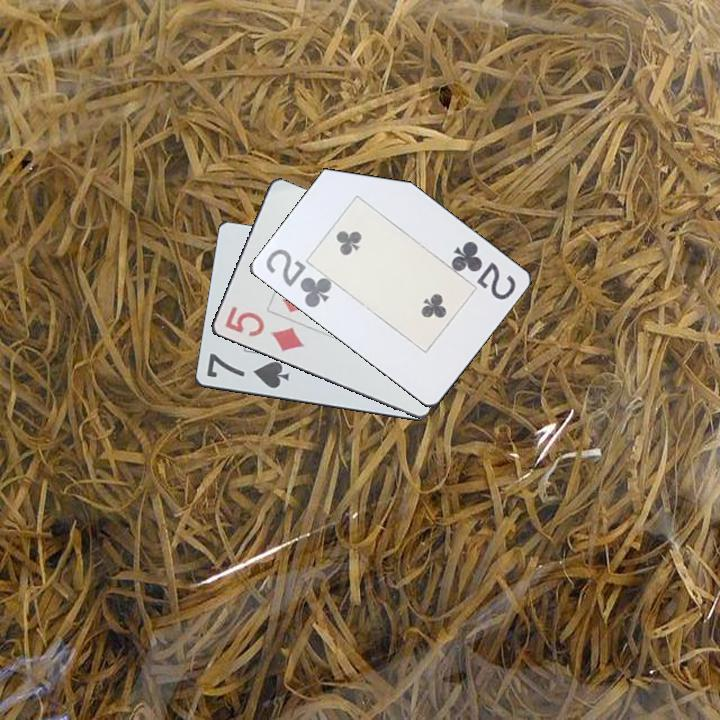2c: (262, 245, 334, 311), (447, 237, 518, 303)
5d: (221, 303, 307, 355)
7s: (203, 350, 292, 392)
